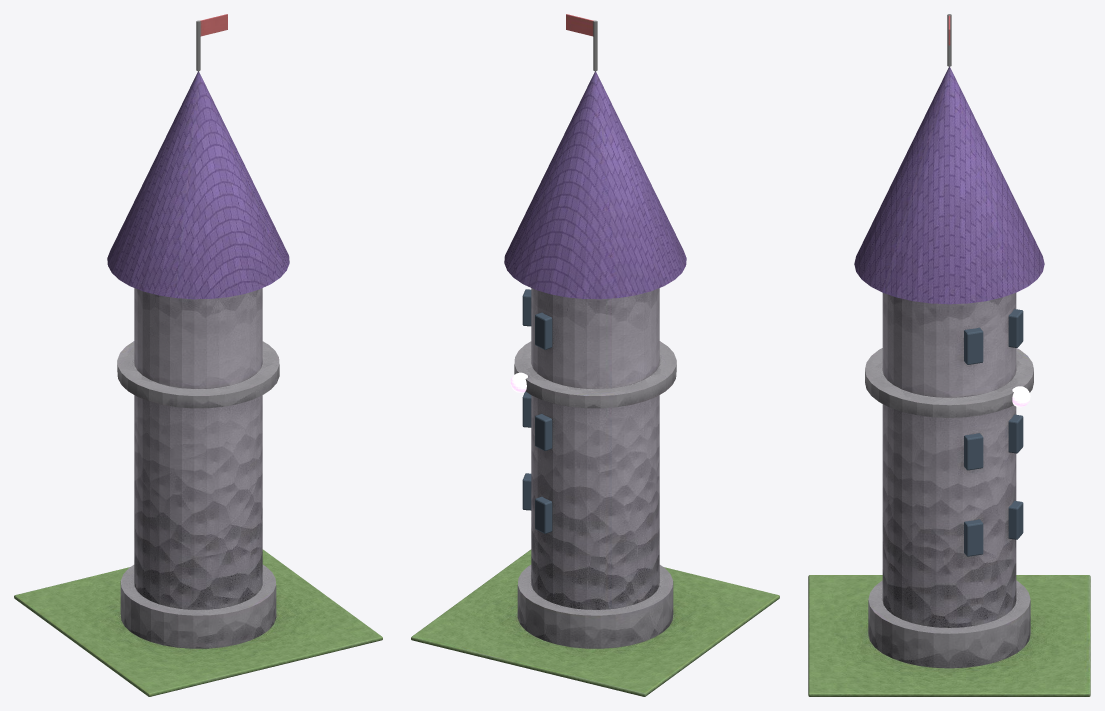
File: magierturm.glb
3 views of the same model, side by side, from view 1: azimuth 30°, elevation 25°; view 2: azimuth 150°, elevation 25°; view 3: azimuth 270°, elevation 25° (orthographic). The views are drawn at different scales.
Visible parts, largest first — view 1: magierturm; view 2: magierturm, magierturm_details; view 3: magierturm, magierturm_details.
Part boxes in pixels (bbox=[...]): magierturm: bbox=[14, 14, 382, 696]; magierturm: bbox=[411, 14, 779, 696]; magierturm_details: bbox=[510, 20, 597, 533]; magierturm: bbox=[808, 15, 1090, 696]; magierturm_details: bbox=[947, 14, 1030, 556].
Bounding box in the file's own units: 0.7999 × 1.95 × 0.7999.
4 materials, 1 textured.
